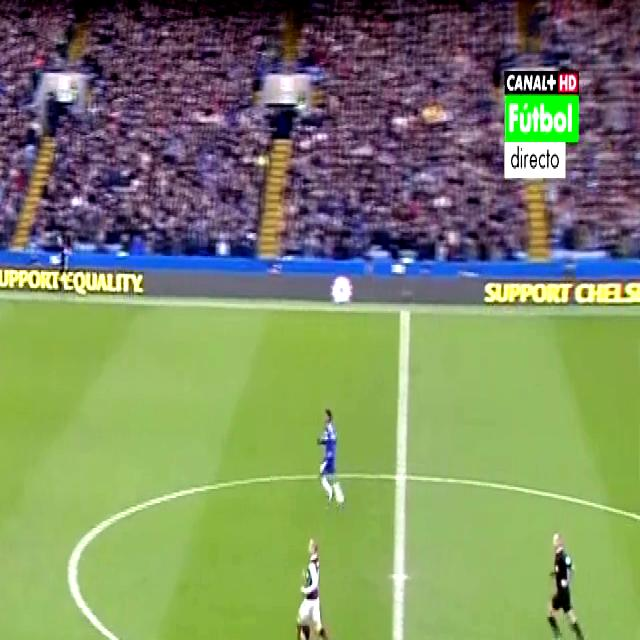referee: (539, 512, 590, 640)
soccer-player: (310, 391, 352, 519), (292, 526, 338, 640), (288, 615, 335, 640), (189, 638, 255, 640)
